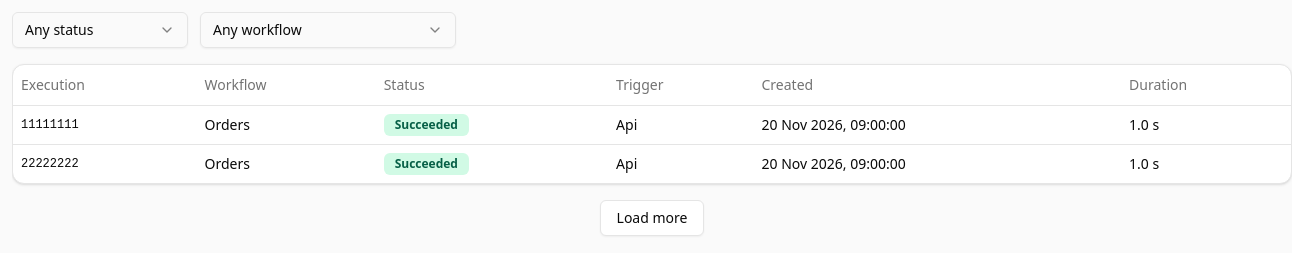
Test: ExecutionsList › loads the next page with the cursor of the previous one
Expected: the link "11111111" is shown, [21,118,79,132]
Click the button "Load more": {"x": 652, "y": 218} [600,200,704,236]
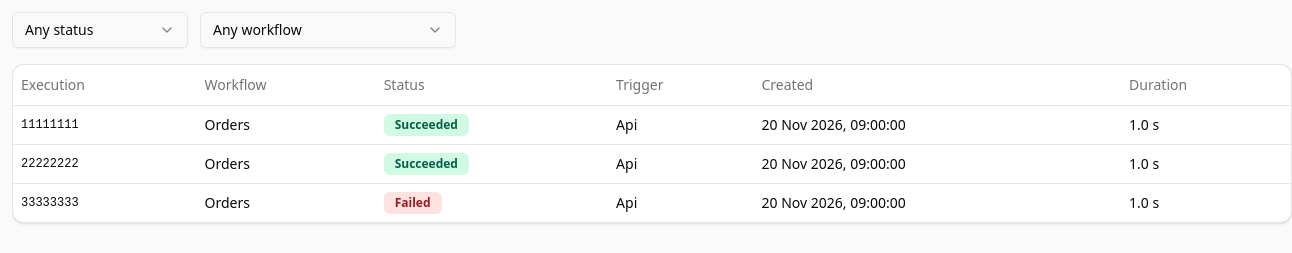
Expected: the link "11111111" is shown, [21,118,79,132]
Result: the link "33333333" is shown at [21,196,79,210]
Result: the button "Load more" is gone
